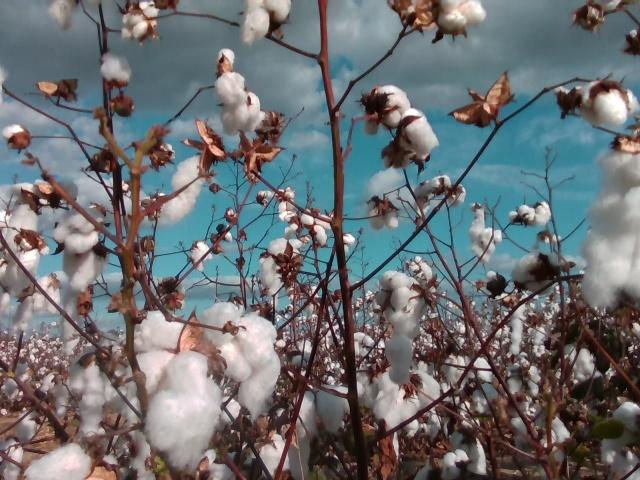cotton_ready: (119, 349, 222, 472), (196, 301, 281, 415), (582, 148, 640, 311), (52, 341, 115, 440), (388, 264, 434, 385), (292, 389, 348, 480), (61, 245, 107, 340), (371, 371, 439, 433), (119, 309, 188, 359), (510, 412, 570, 467), (159, 156, 208, 223), (131, 449, 234, 480), (234, 432, 300, 480), (581, 80, 640, 131), (0, 228, 42, 296), (19, 441, 91, 480), (14, 275, 64, 331), (51, 202, 108, 251), (600, 404, 640, 471), (216, 73, 261, 131), (259, 237, 302, 296), (395, 109, 441, 161), (34, 176, 79, 226), (467, 203, 504, 261), (241, 0, 291, 42), (371, 85, 412, 130), (0, 184, 36, 235), (376, 269, 412, 318), (511, 254, 552, 296), (453, 428, 486, 480), (283, 208, 328, 246), (415, 175, 466, 206), (416, 353, 465, 384), (119, 0, 156, 41), (562, 346, 604, 382), (442, 0, 487, 29), (463, 384, 502, 416), (366, 197, 402, 230), (510, 201, 555, 227), (461, 355, 493, 389), (287, 336, 317, 369), (100, 54, 134, 81), (439, 449, 468, 480), (48, 0, 77, 29), (216, 48, 237, 76), (1, 124, 26, 144)
